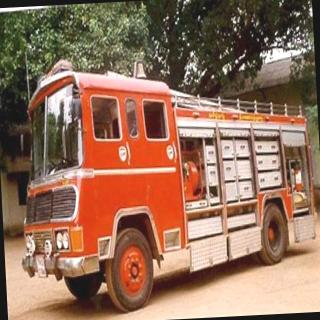Fire_truck: (10, 44, 320, 318)
